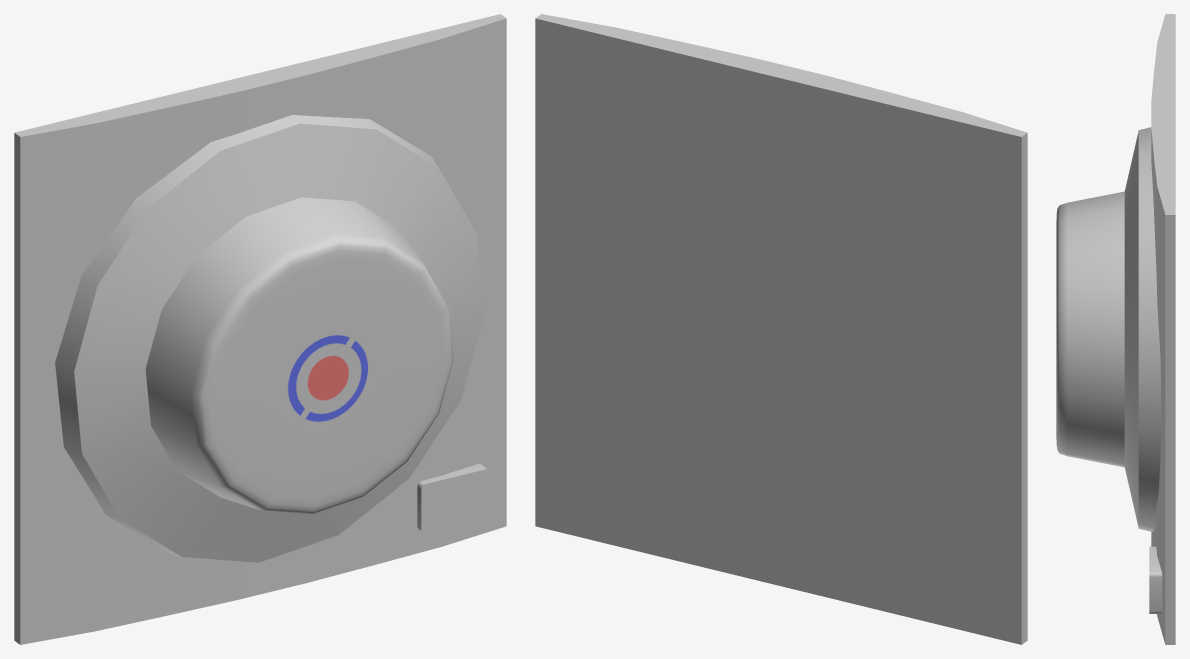
Rendered from LC_3002_electronic_siren_LOD2.FBX.
The picture shows the model from 3 angles, left to right: view 1: azimuth 30°, elevation 25°; view 2: azimuth 150°, elevation 25°; view 3: azimuth 270°, elevation 25°; orthographic projection. The views are drawn at different scales.
Visible parts, largest first — view 1: LC_3002_electronic_siren_LOD2; view 2: LC_3002_electronic_siren_LOD2; view 3: LC_3002_electronic_siren_LOD2.
Part boxes in pixels (left/top/right/bottom): LC_3002_electronic_siren_LOD2: left=14, top=14, right=506, bottom=644; LC_3002_electronic_siren_LOD2: left=535, top=14, right=1027, bottom=644; LC_3002_electronic_siren_LOD2: left=1056, top=14, right=1175, bottom=644.
Bounding box in the file's own units: 12.45 × 12.42 × 3.12.
